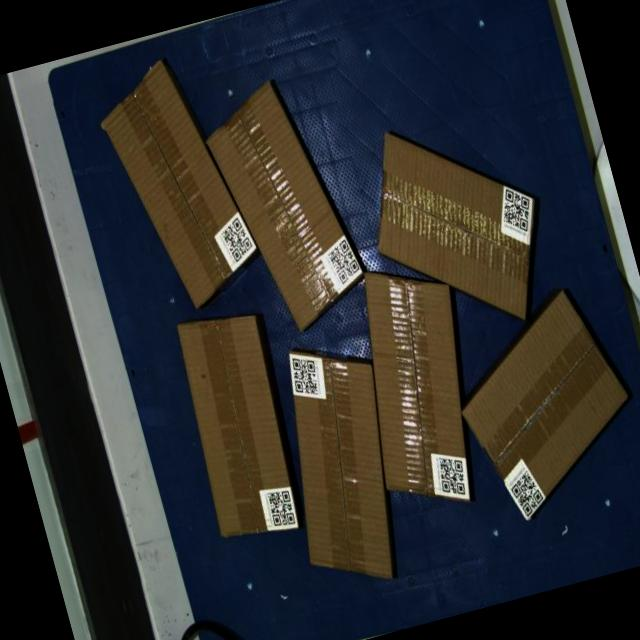box: (348, 98, 564, 352), (437, 278, 640, 529), (194, 69, 374, 343), (90, 48, 268, 320), (330, 251, 504, 522), (256, 331, 426, 598), (165, 304, 311, 548)
